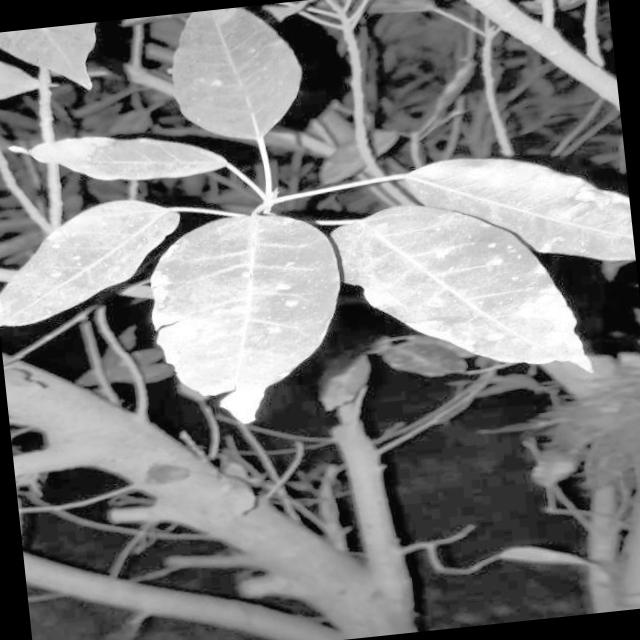Tree: (0, 266, 640, 640)
